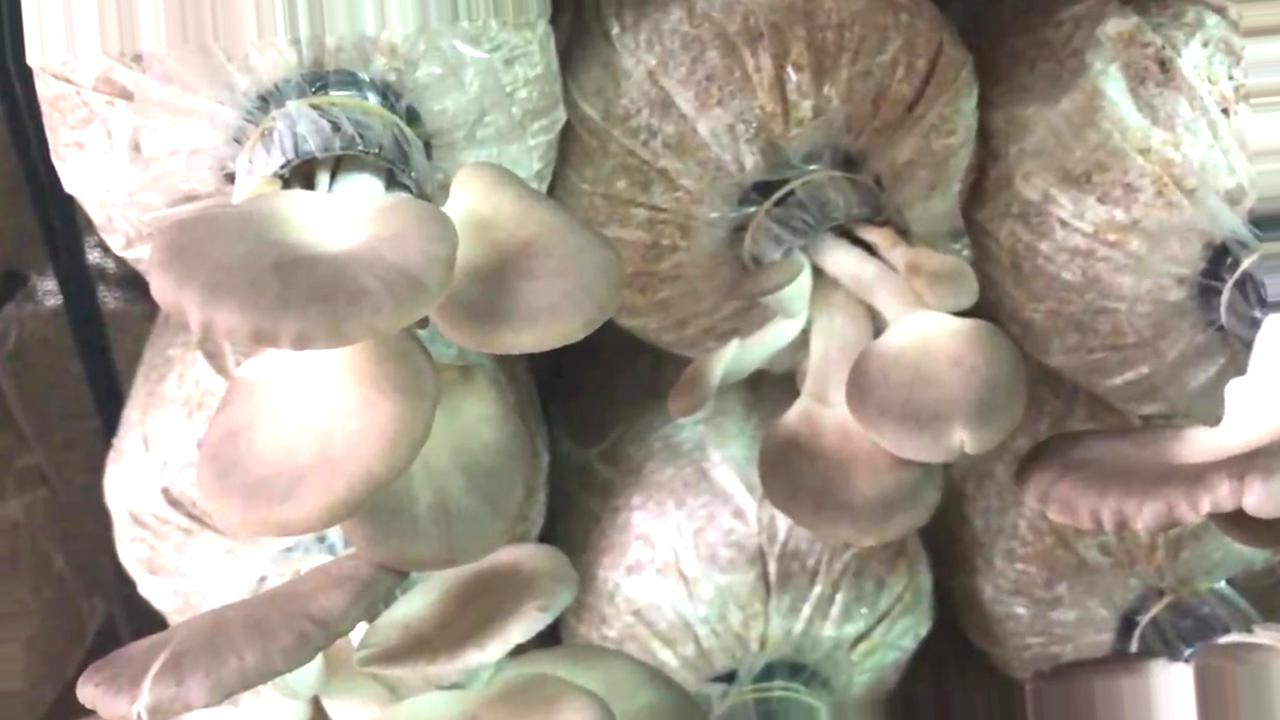nam: (168, 81, 618, 564), (666, 168, 1028, 542), (78, 546, 707, 720), (1034, 591, 1280, 720), (1036, 428, 1280, 519)
